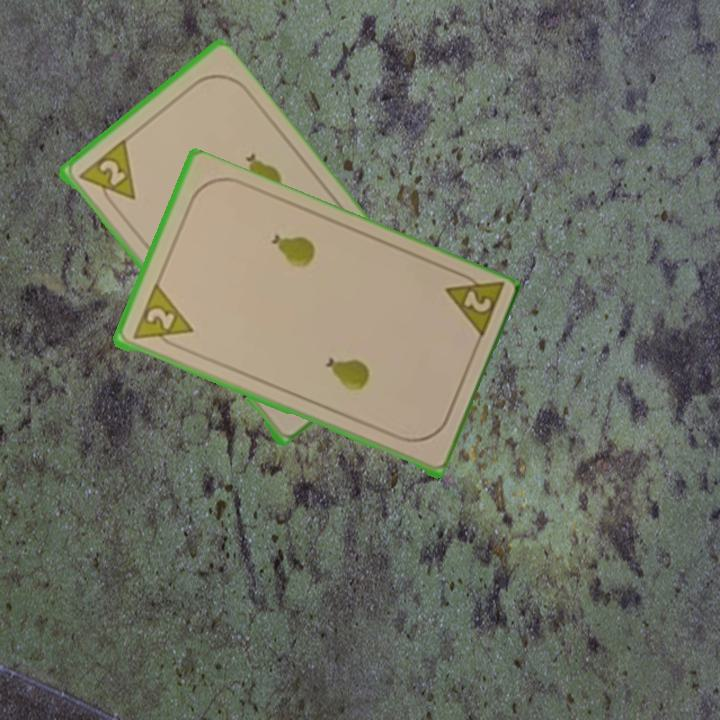2p: (440, 266, 506, 344), (74, 137, 138, 213), (128, 282, 195, 352)
